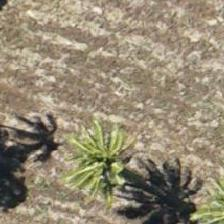coconut_tree: (60, 102, 150, 192)
